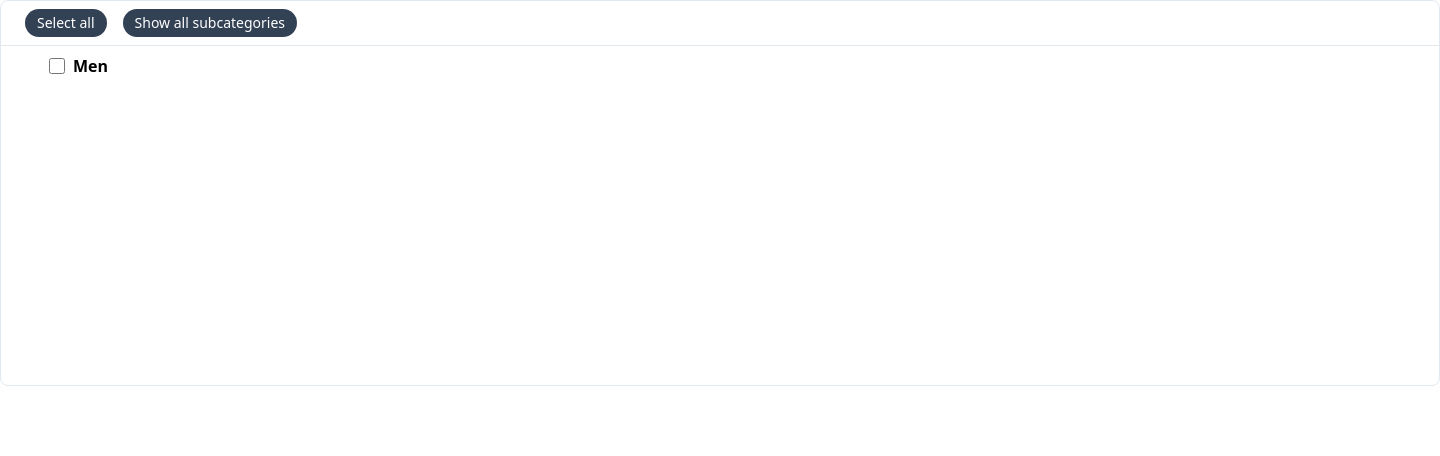
Test: TreeToolbar › should select all checkboxs when clicking select all button
The image size is (1440, 456).
Note: show checkboxs
Click the text "Men" at [91, 66], box x1=73 y1=54 x2=108 y2=78
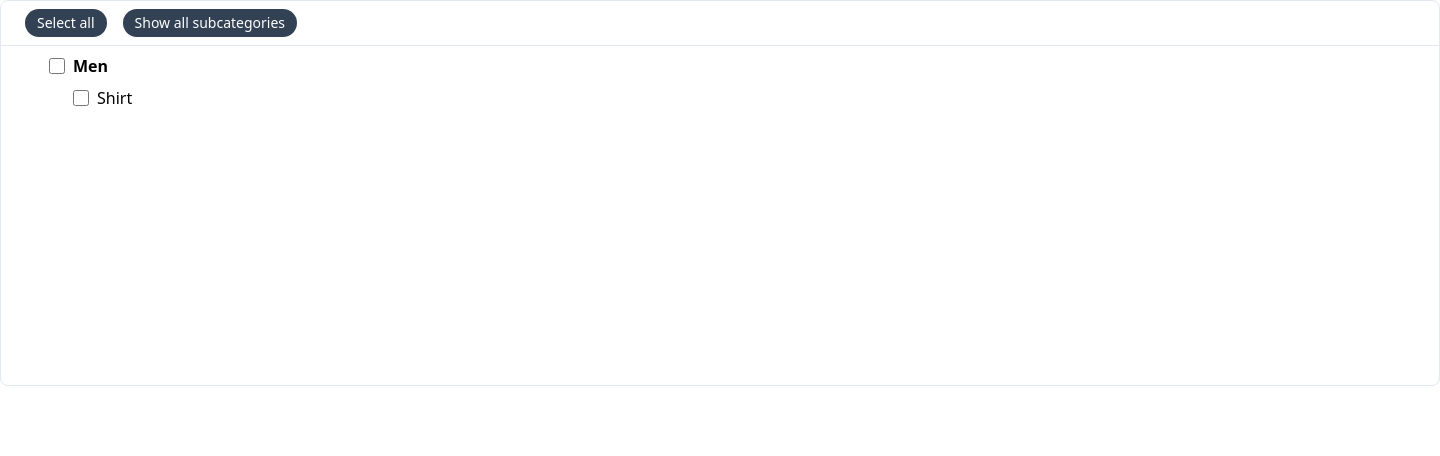
Check: the checkbox next to "Men" is not checked, box x1=49 y1=58 x2=65 y2=74
Check: the checkbox next to "Shirt" is not checked, box x1=73 y1=90 x2=89 y2=106
Note: click select all button
Click the text "Select all" at [66, 23], box x1=37 y1=13 x2=95 y2=33
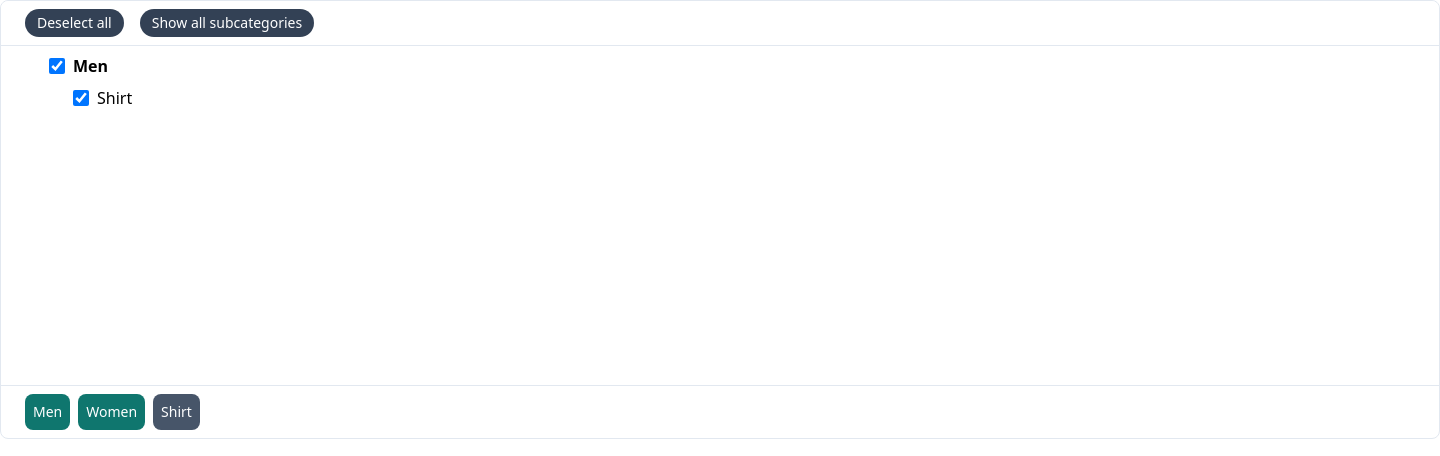
Check: the number of checkboxes is 2, box x1=49 y1=58 x2=65 y2=74; x1=73 y1=90 x2=89 y2=106
Check: the 1st checkbox is checked, box x1=49 y1=58 x2=65 y2=74
Check: the 2nd checkbox is checked, box x1=73 y1=90 x2=89 y2=106
